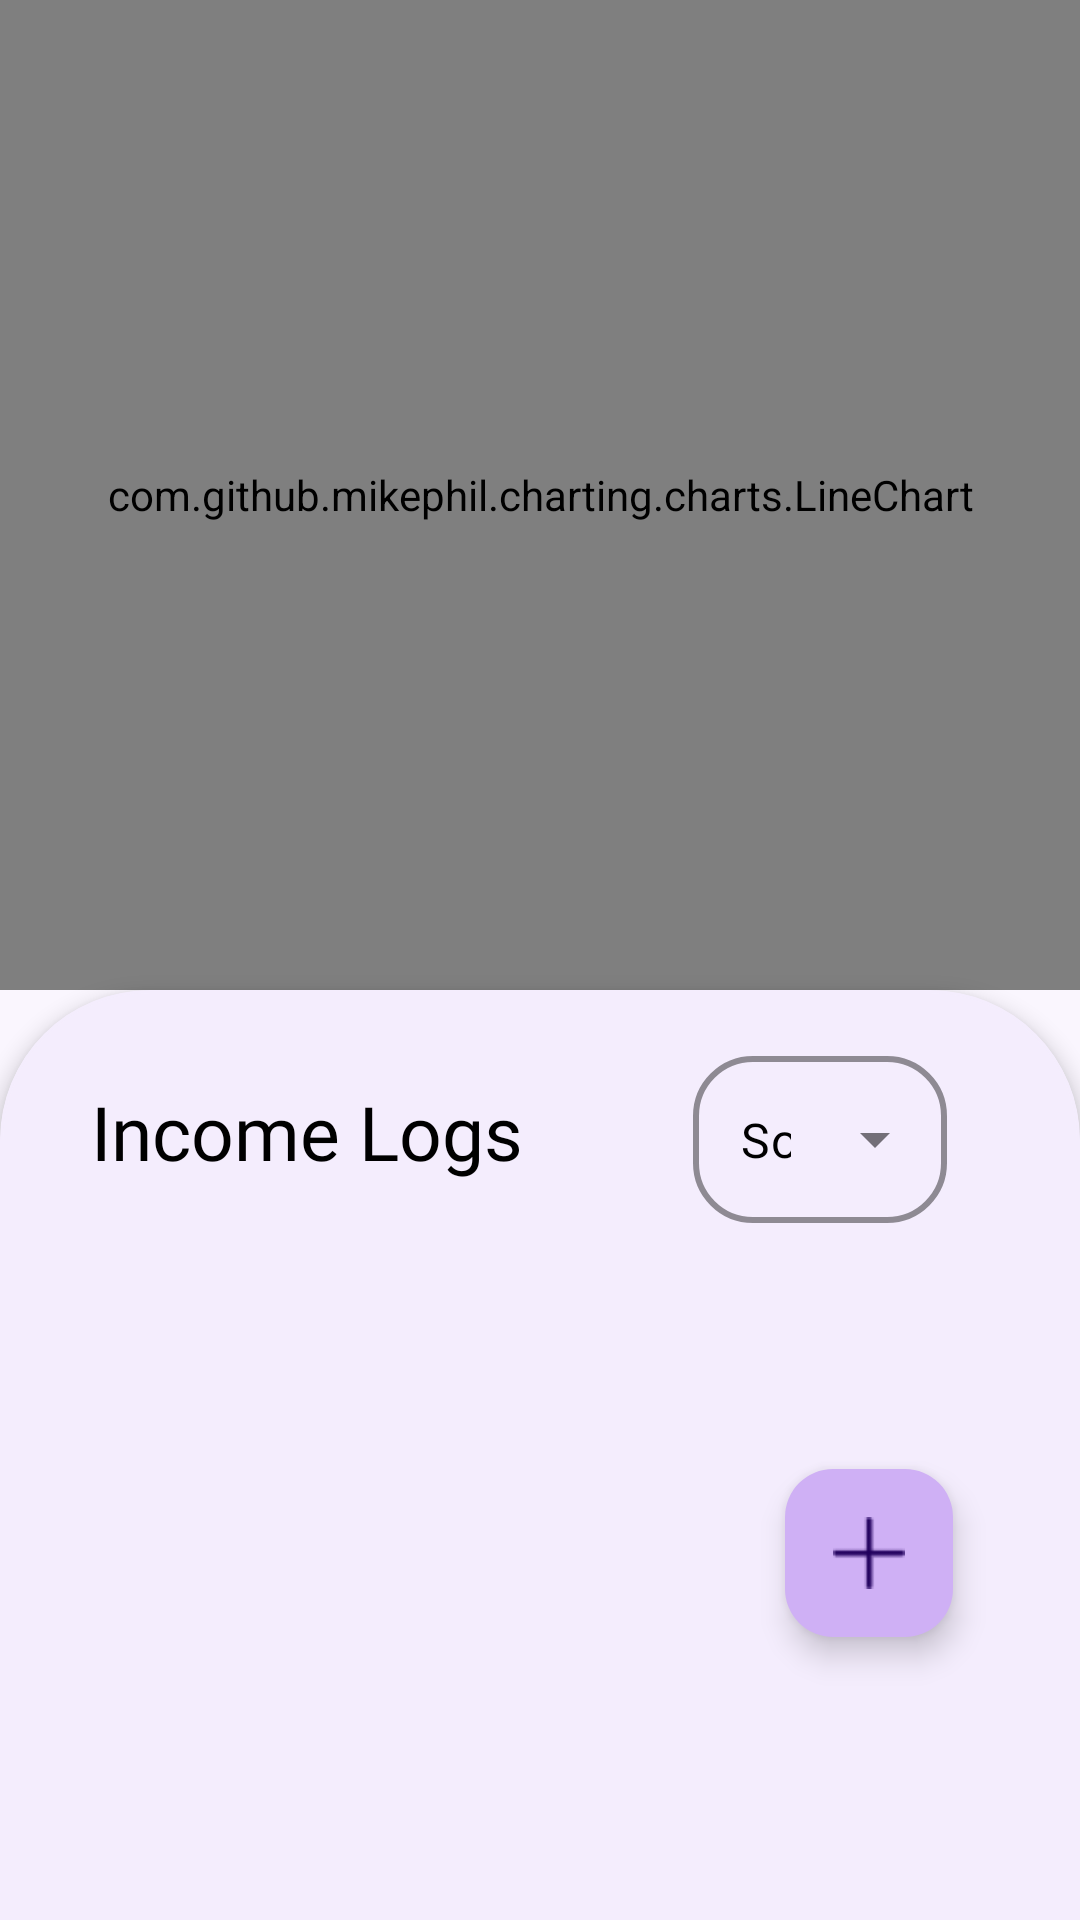

Where icons sit on this 1080x1920 app screen, as [x1,y1,x2,y2]:
plus: [785,1469,953,1637]
